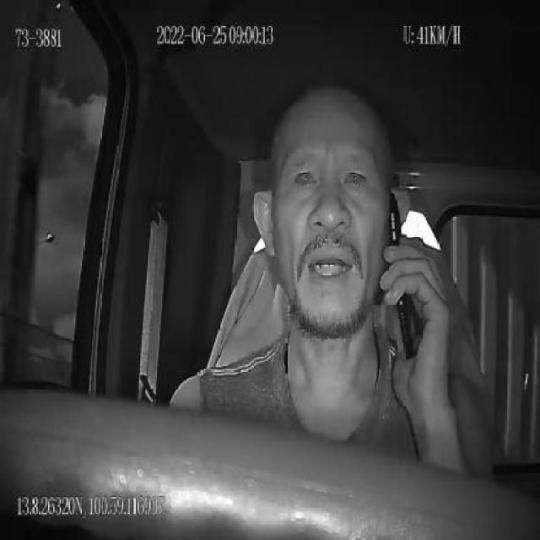phone: (388, 191, 416, 362)
